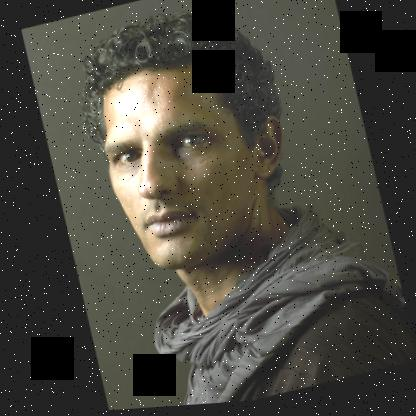Male: (86, 46, 305, 279)
